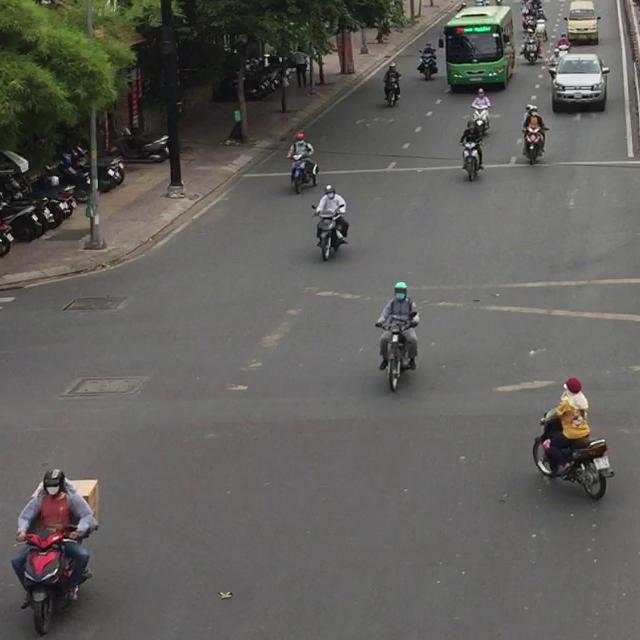Motorcycle: (532, 408, 614, 500), (16, 523, 78, 637), (374, 311, 419, 392), (310, 204, 348, 261), (287, 153, 318, 194), (459, 135, 485, 181), (521, 126, 548, 165), (417, 50, 438, 80), (382, 74, 401, 107)
